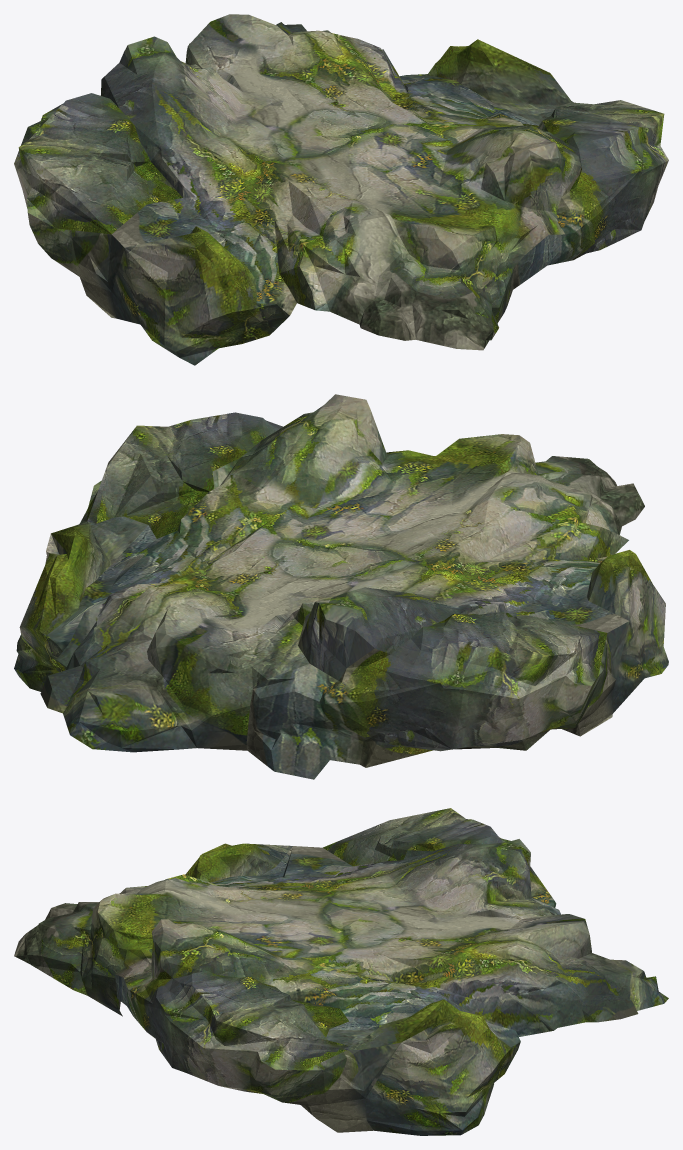
The model's file is stone_01.fbx.
3 views of the same model, one above another, from view 1: azimuth 30°, elevation 25°; view 2: azimuth 150°, elevation 25°; view 3: azimuth 270°, elevation 25° (orthographic). The views are drawn at different scales.
Visible parts, largest first — view 1: polySurface14; view 2: polySurface14; view 3: polySurface14.
Part boxes in pixels (box(x1,y1,x2,y2)): polySurface14: box(14, 14, 668, 365); polySurface14: box(14, 394, 668, 779); polySurface14: box(14, 808, 668, 1135).
Bounding box in the file's own units: 0.0434 × 0.0137 × 0.0519.
